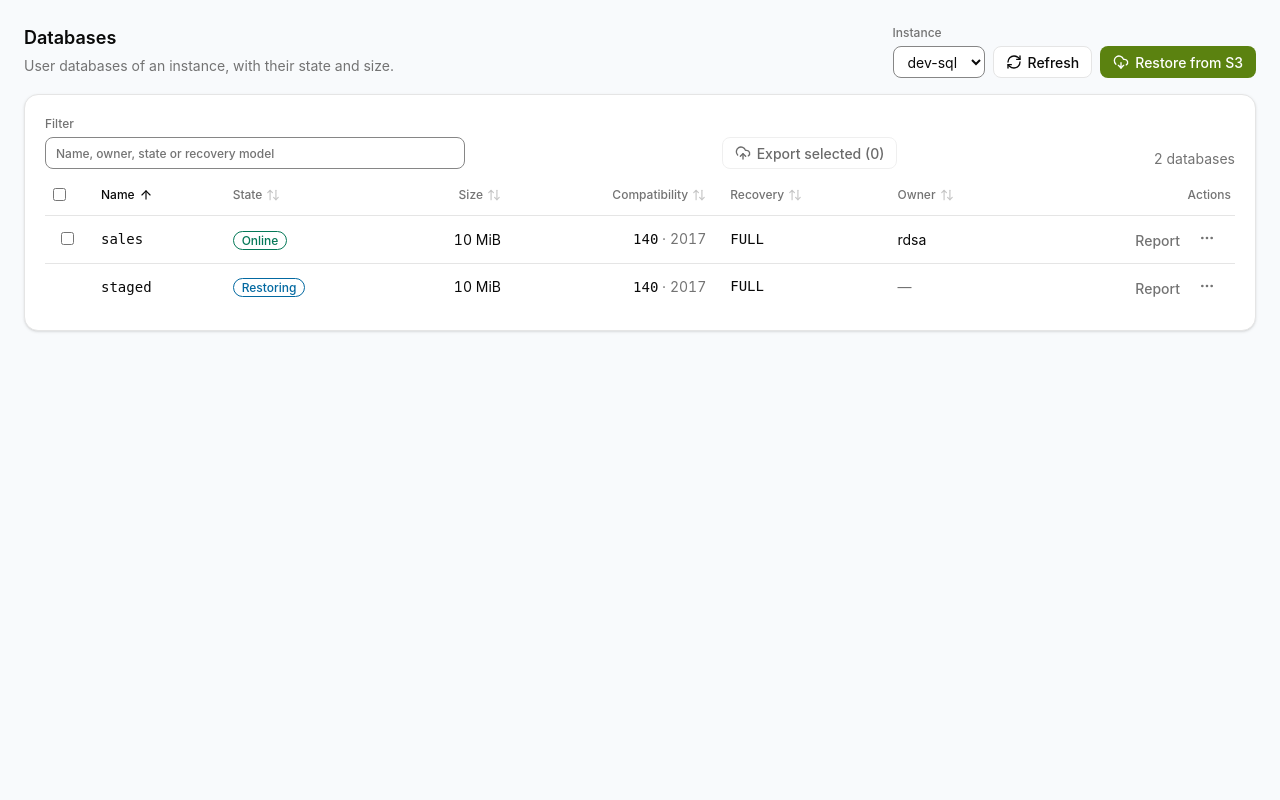
DatabasesPage actions › shows the post-restore report
Check: the column heading "Actions" is shown, box [1025, 181, 1235, 215]
Click the button "Report" in the row of "sales": {"x": 1158, "y": 240} [1126, 226, 1189, 254]
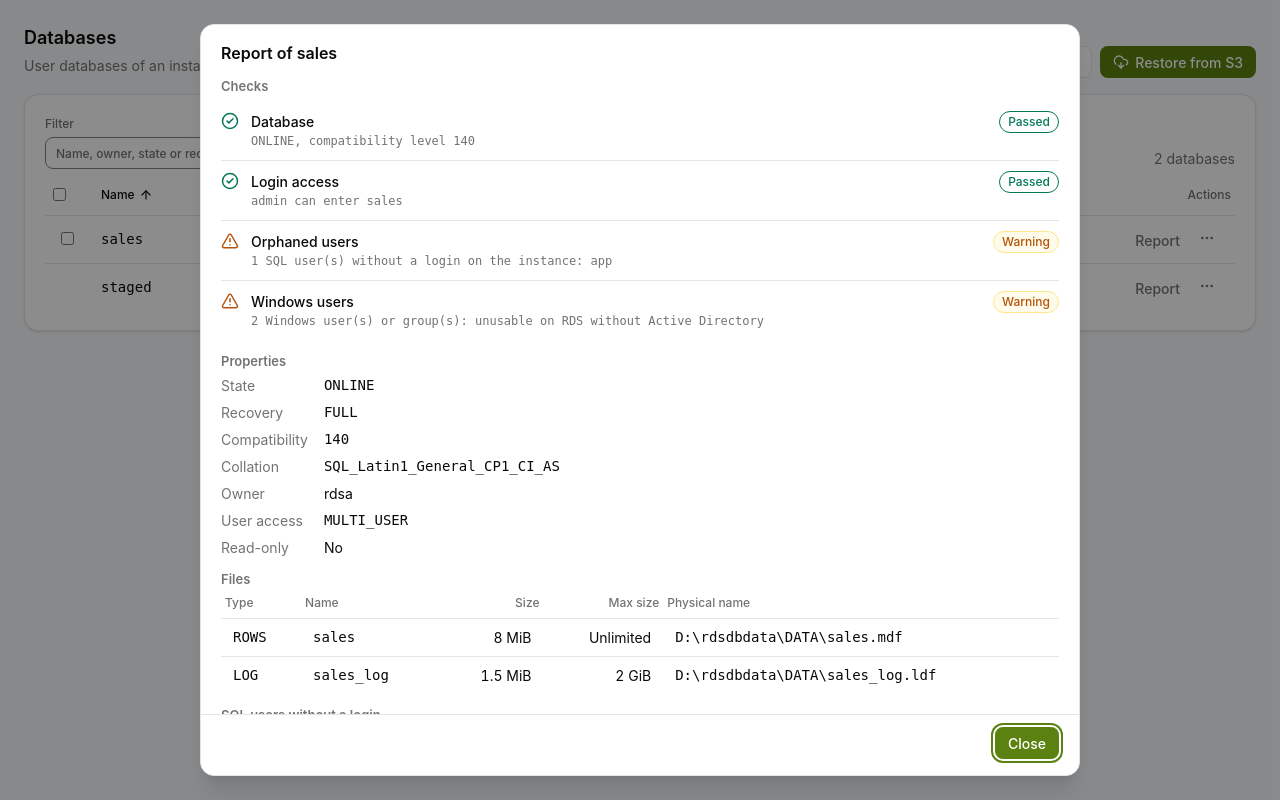
Check: the text "Login access" is shown, box [251, 172, 339, 190]
Check: the text "Orphaned users" is shown, box [251, 232, 358, 250]
Check: the text "unusable on RDS without Active Directory" is shown, box [251, 314, 764, 328]
Click the button "Close": {"x": 1027, "y": 743} [995, 727, 1059, 759]
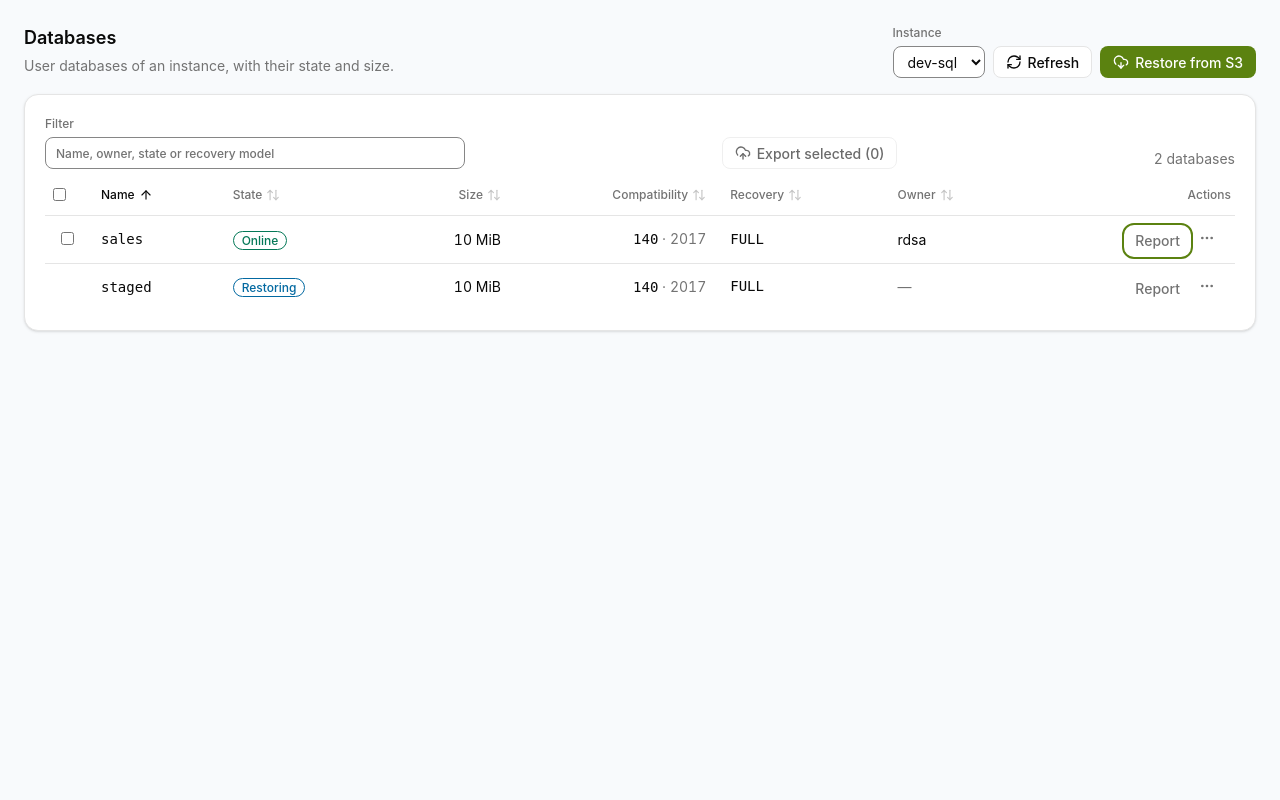
Check: the dialog is gone
